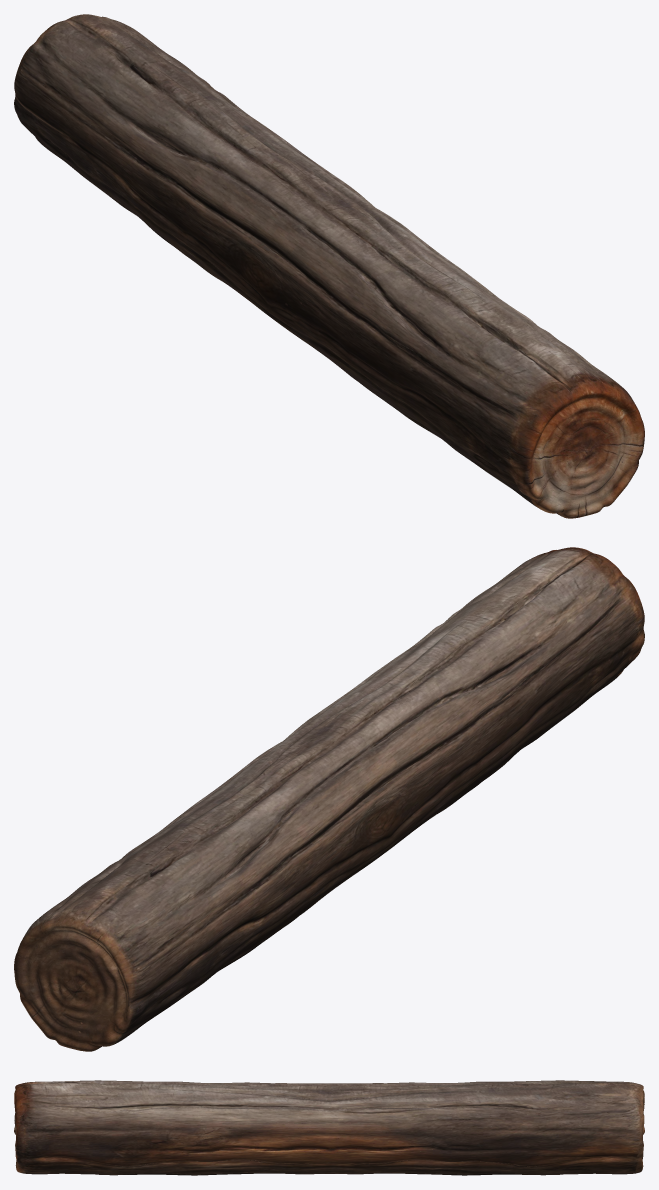
File: WoodLog2.fbx
The picture shows the model from 3 angles, top to bottom: view 1: azimuth 30°, elevation 25°; view 2: azimuth 150°, elevation 25°; view 3: azimuth 270°, elevation 25°; orthographic projection. The views are drawn at different scales.
Parts seen in each view (by area): view 1: woodenLog3; view 2: woodenLog3; view 3: woodenLog3.
Boxes of the visible parts, x1=… form: woodenLog3: x1=14, y1=14, x2=644, y2=518; woodenLog3: x1=14, y1=547, x2=644, y2=1051; woodenLog3: x1=14, y1=1080, x2=644, y2=1175.
Bounding box in the file's own units: 58.53 × 60.37 × 401.
1 material, 1 textured.
